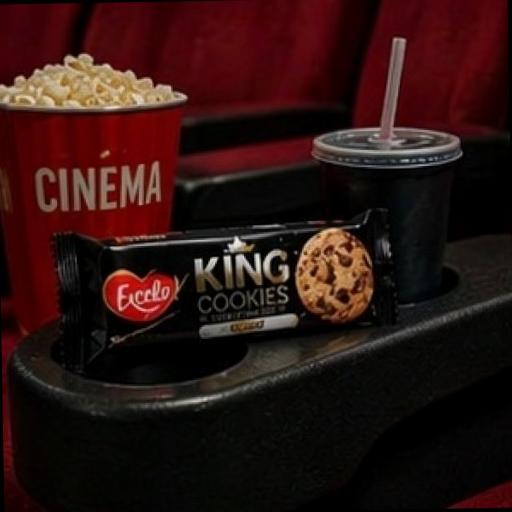king_cooking: (34, 166, 444, 388)
